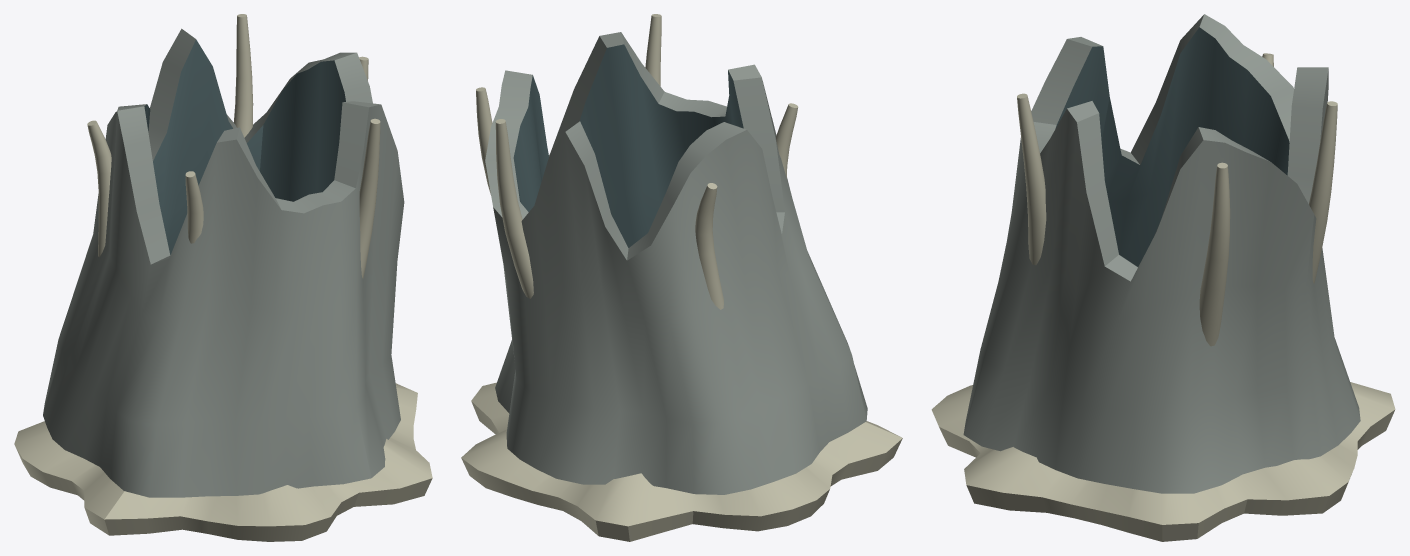
Rendered from severed_tendril_stump_lod0.glb.
3 renders of one model, left to right at view 1: azimuth 30°, elevation 25°; view 2: azimuth 150°, elevation 25°; view 3: azimuth 270°, elevation 25°, orthographic. The views are drawn at different scales.
Visible parts, largest first — view 1: LOD0_tissue, LOD0_calcite, LOD0_tissue_fold; view 2: LOD0_tissue, LOD0_calcite, LOD0_tissue_fold; view 3: LOD0_tissue, LOD0_calcite, LOD0_tissue_fold.
Boxes of the visible parts, <box> form: LOD0_tissue: <box>43,28,404,497</box>; LOD0_calcite: <box>14,14,432,541</box>; LOD0_tissue_fold: <box>144,39,345,254</box>; LOD0_tissue: <box>485,32,867,494</box>; LOD0_calcite: <box>461,14,902,541</box>; LOD0_tissue_fold: <box>513,44,743,247</box>; LOD0_tissue: <box>963,14,1360,493</box>; LOD0_calcite: <box>931,53,1395,541</box>; LOD0_tissue_fold: <box>1055,27,1289,266</box>.
Bounding box in the file's own units: 1.52 × 1.46 × 1.55.
